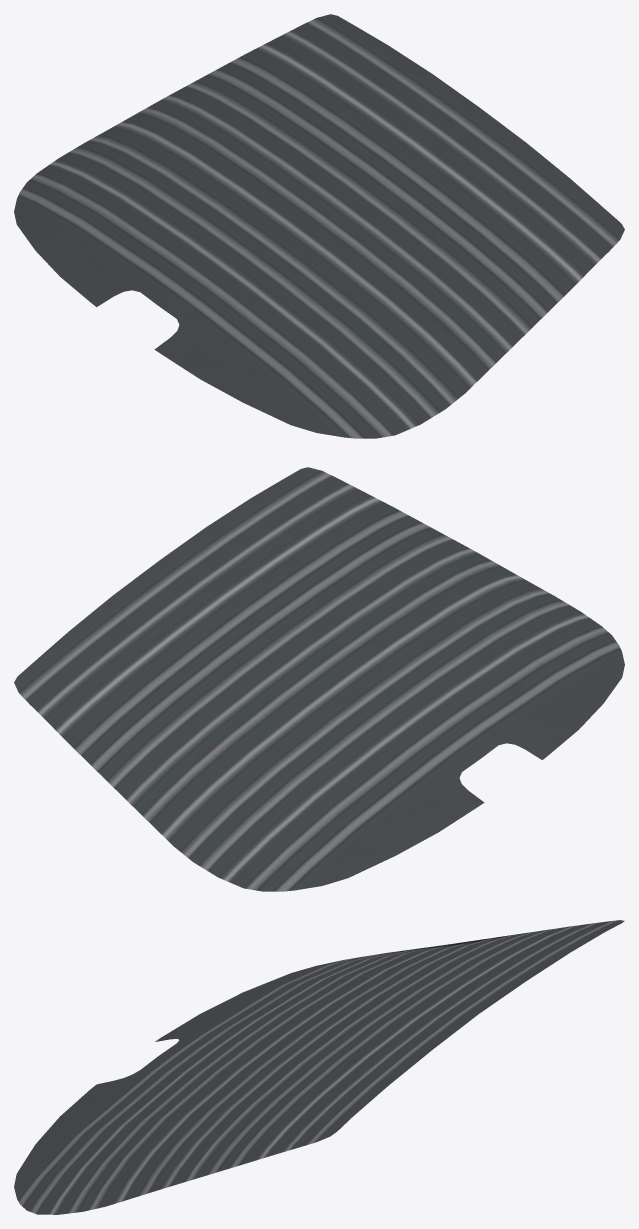
The model's file is gallo99_glass_rear_ucb_lights_and_glass_transperent_0.002_lev3.glb.
3 views of the same model, one above another, from view 1: azimuth 30°, elevation 25°; view 2: azimuth 150°, elevation 25°; view 3: azimuth 330°, elevation 25° (orthographic).
Parts seen in each view (by area): view 1: gallo99_glass_rear_ucb_lights_and_glass_transperent_0.002_le; view 2: gallo99_glass_rear_ucb_lights_and_glass_transperent_0.002_le; view 3: gallo99_glass_rear_ucb_lights_and_glass_transperent_0.002_le.
Boxes of the visible parts, box(x1,y1,x2,y2) form: gallo99_glass_rear_ucb_lights_and_glass_transperent_0.002_le: box(14, 14, 624, 438); gallo99_glass_rear_ucb_lights_and_glass_transperent_0.002_le: box(14, 467, 624, 891); gallo99_glass_rear_ucb_lights_and_glass_transperent_0.002_le: box(14, 920, 624, 1214).
Bounding box in the file's own units: 0.6745 × 0.2527 × 1.2.
1 material, 1 textured.
